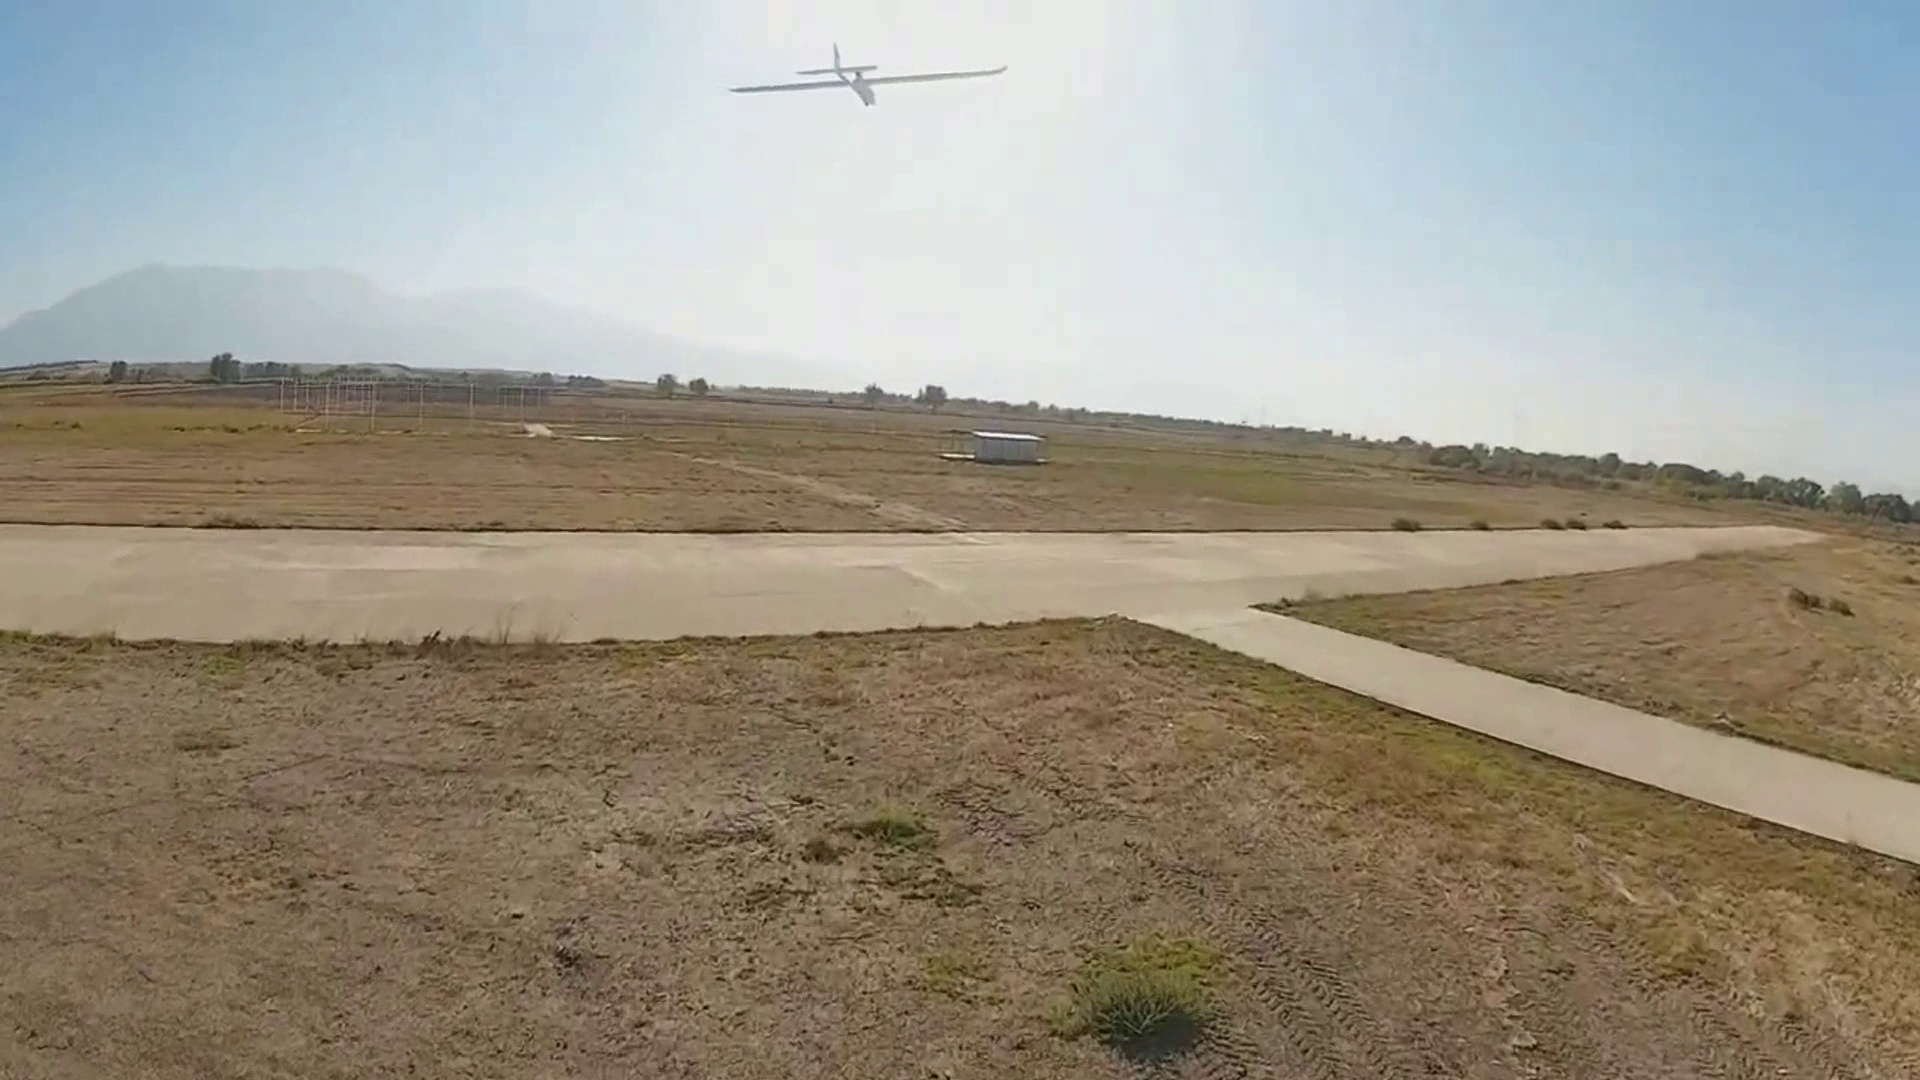airplane: (729, 37, 1009, 106)
